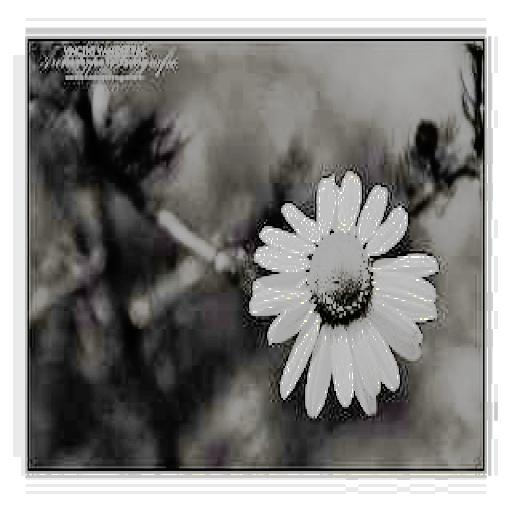daisy: (258, 183, 430, 404)
